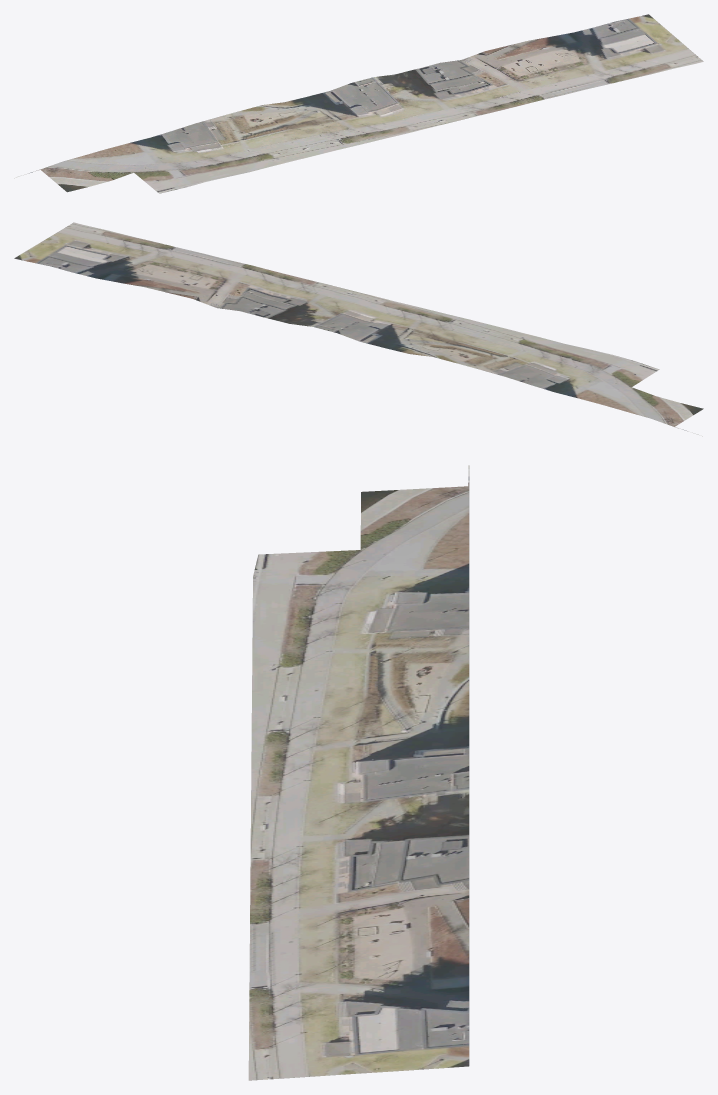
File: CM_Terrain_24487182_6819999.fbx
3 views of the same model, one above another, from view 1: azimuth 30°, elevation 25°; view 2: azimuth 150°, elevation 25°; view 3: azimuth 270°, elevation 25° (orthographic). The views are drawn at different scales.
Visible parts, largest first — view 1: CM_Terrain_24487182_6819999_LOD0; view 2: CM_Terrain_24487182_6819999_LOD0; view 3: CM_Terrain_24487182_6819999_LOD0.
Boxes of the visible parts, bbox=[...] form: CM_Terrain_24487182_6819999_LOD0: bbox=[14, 14, 703, 193]; CM_Terrain_24487182_6819999_LOD0: bbox=[14, 222, 703, 436]; CM_Terrain_24487182_6819999_LOD0: bbox=[248, 465, 469, 1080].
Size of what is drawn, in the model's own units: 205 by 4.3 by 30.83.
